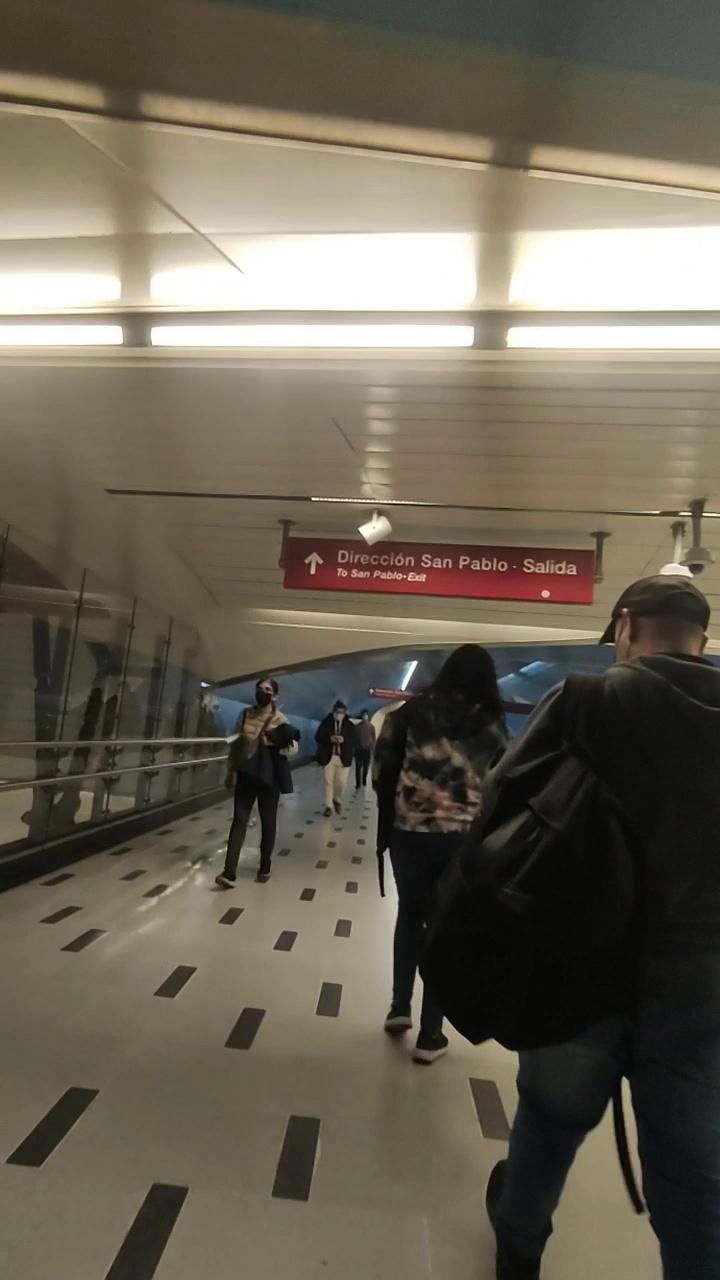up arrow: (301, 548, 328, 578)
